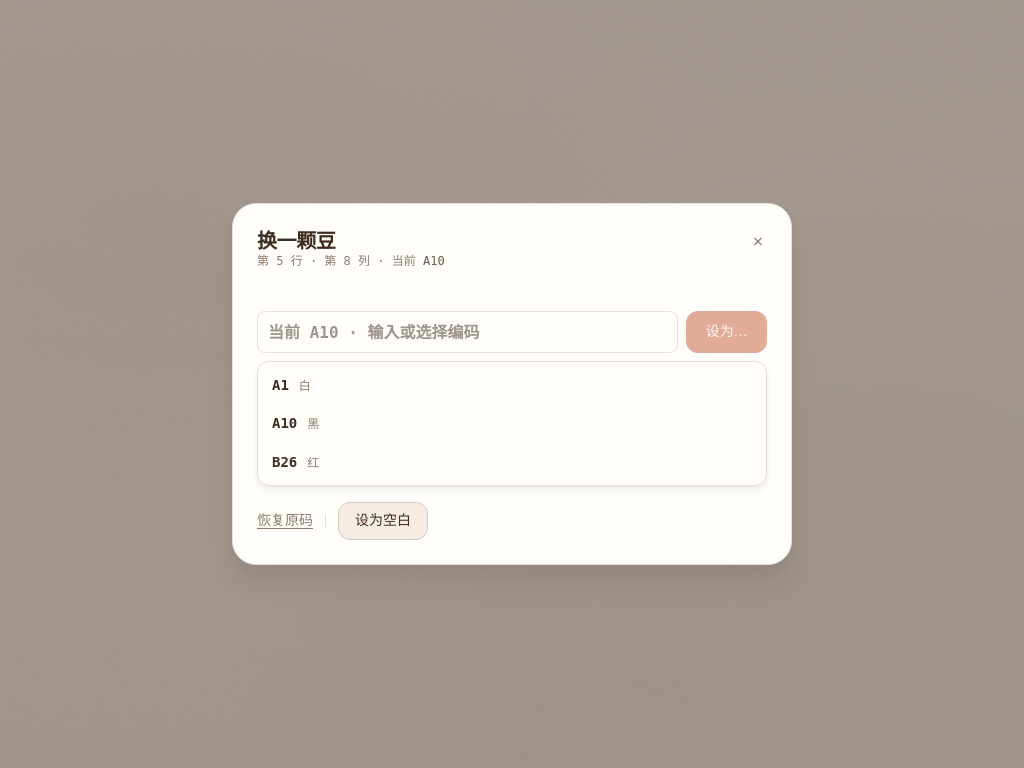
Test: CorrectionEditorModal 交互 › 点击下拉项填入编码
Click the text "B26".
click(285, 462)  # box [272,451,297,473]
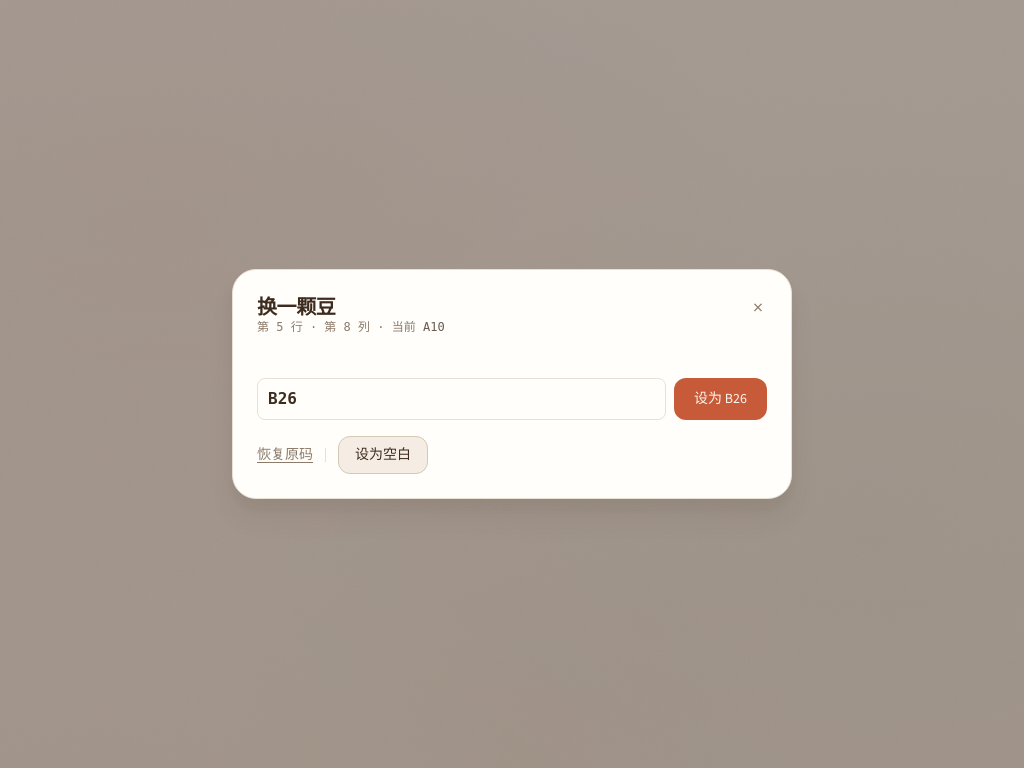
Now the field named "修正编码" holds "B26", box [257,378,666,420]
